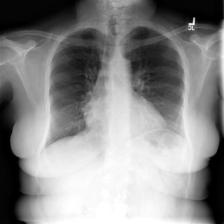normal: (41, 22, 191, 156)
